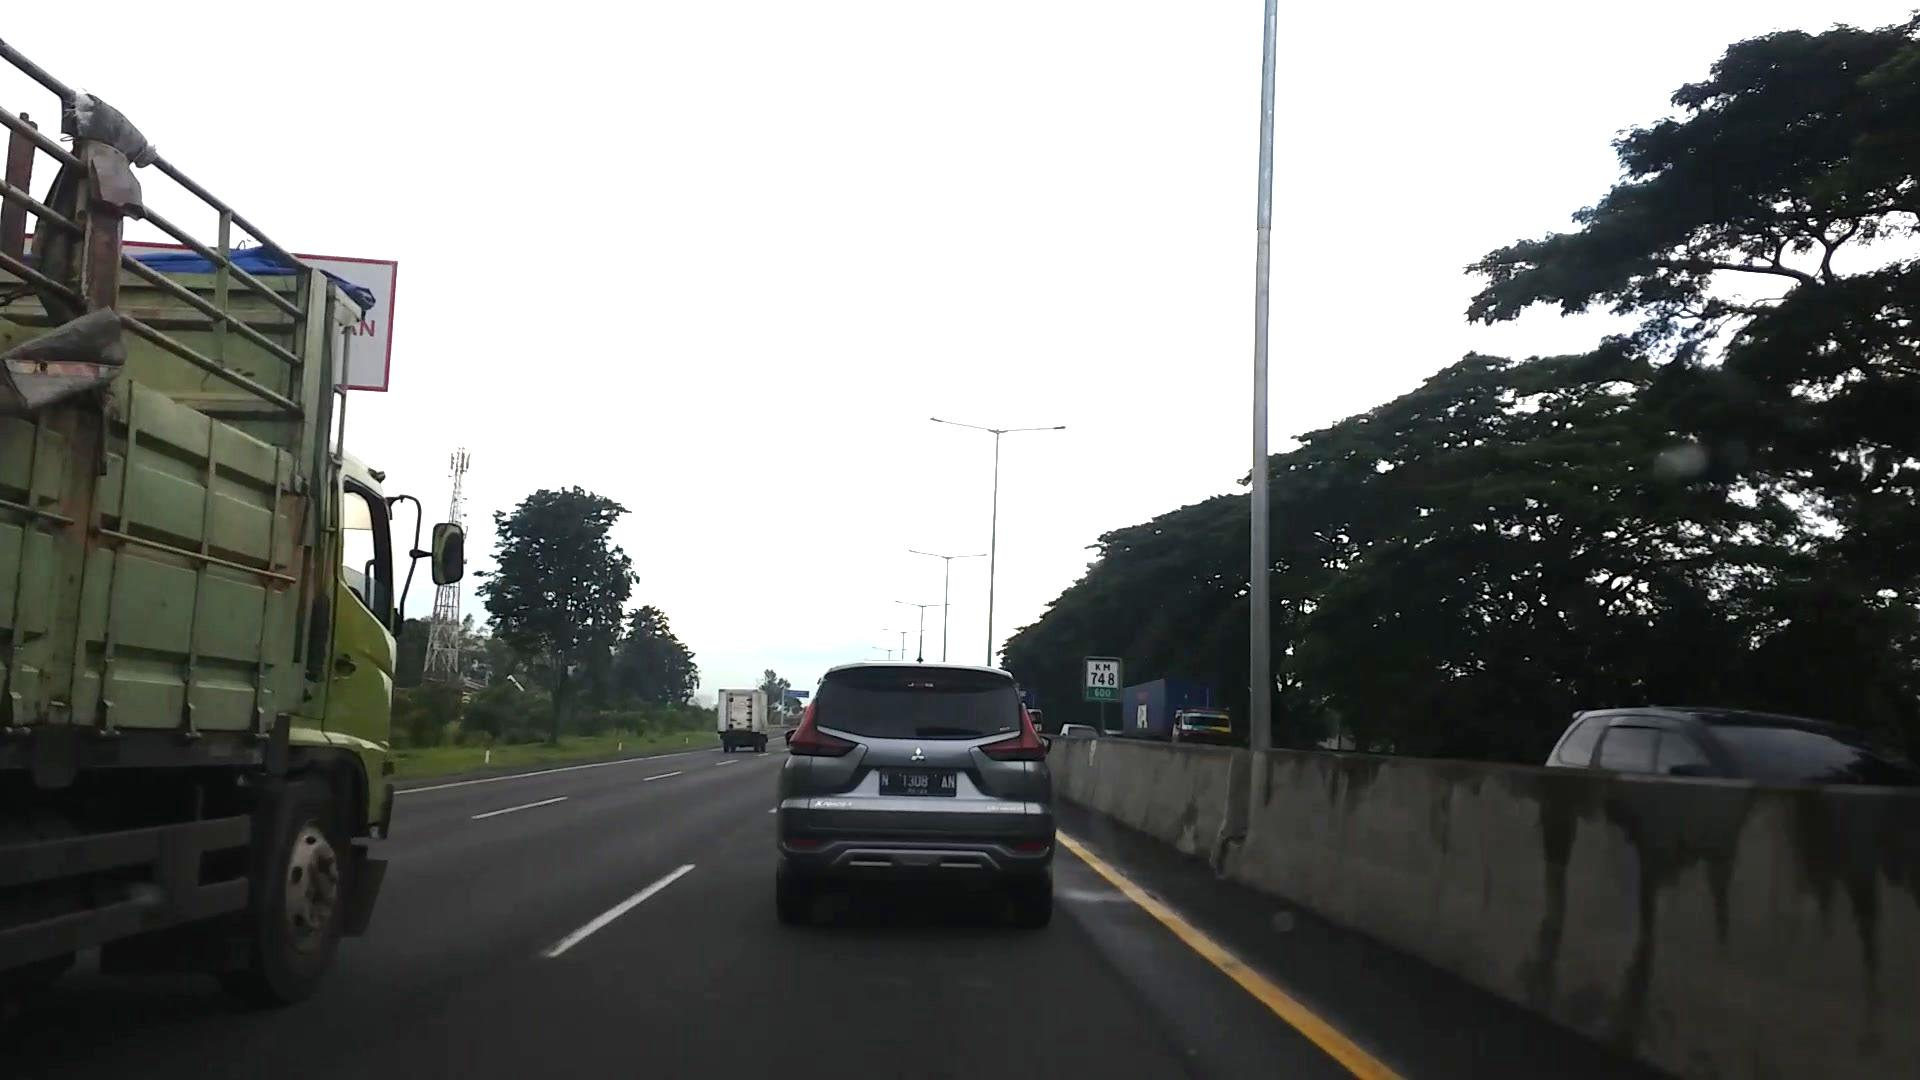plate_positive: (880, 767, 956, 798)
